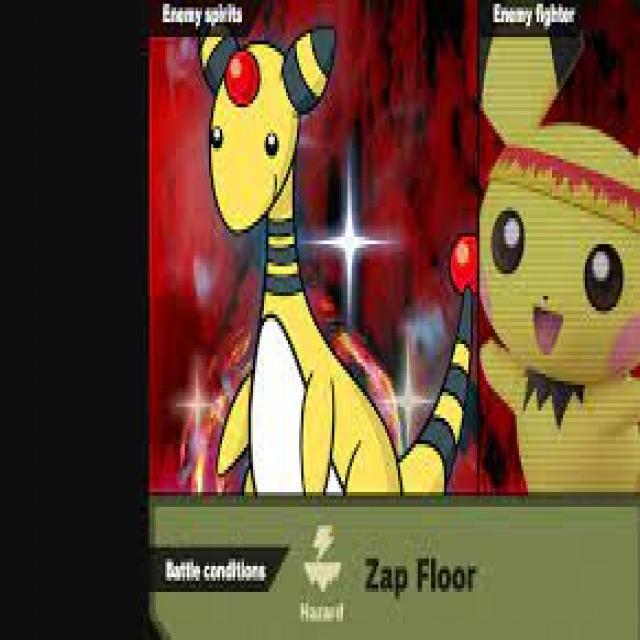pichu: (480, 14, 640, 474)
